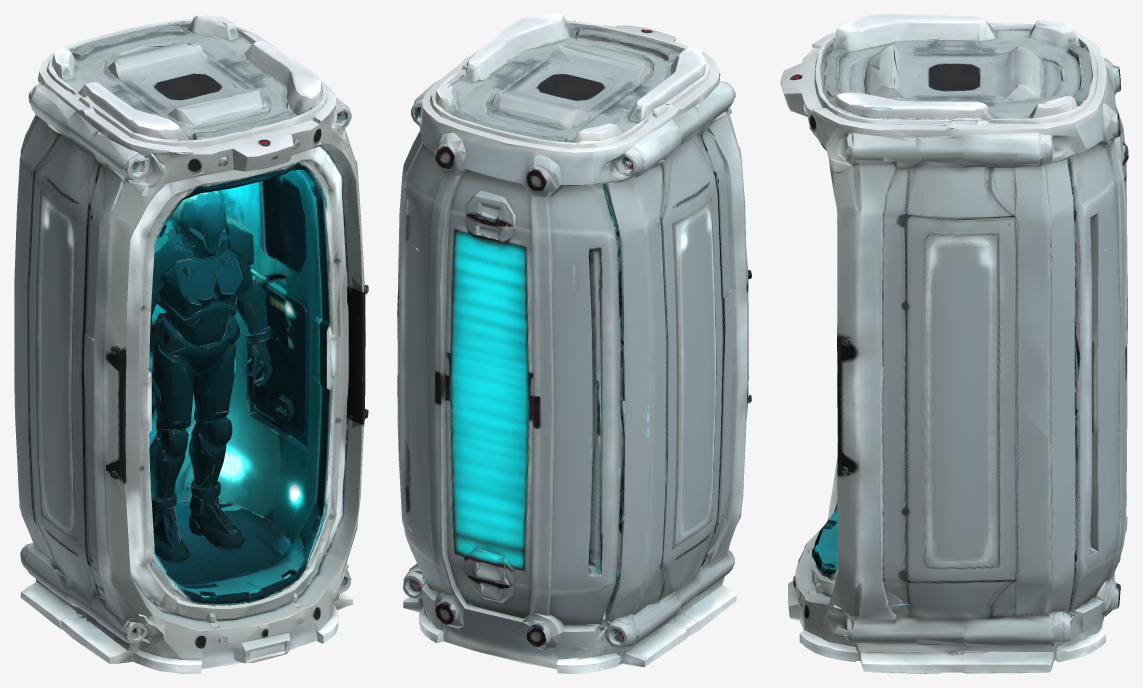
Rendered from Meshy_AI_Containment_Pod_source.glb.
3 views of the same model, side by side, from view 1: azimuth 30°, elevation 25°; view 2: azimuth 150°, elevation 25°; view 3: azimuth 270°, elevation 25° (orthographic). The views are drawn at different scales.
Size of the model in its own units: 0.9762 by 1.9 by 1.08.
1 material, 1 textured.
